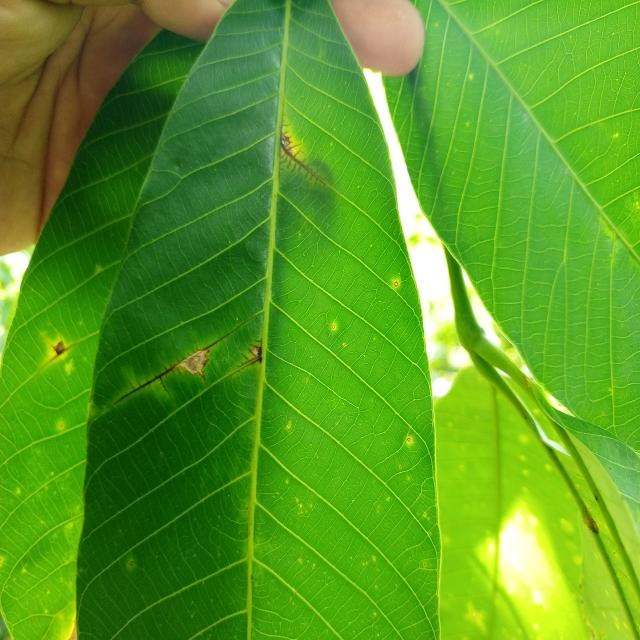Colletotrichum: (394, 281, 398, 287), (332, 324, 336, 328)
Corynespora: (278, 106, 326, 188), (112, 356, 182, 405), (202, 325, 240, 351), (237, 337, 263, 372), (200, 370, 206, 382)
Leaf-Blight: (180, 348, 208, 374)
